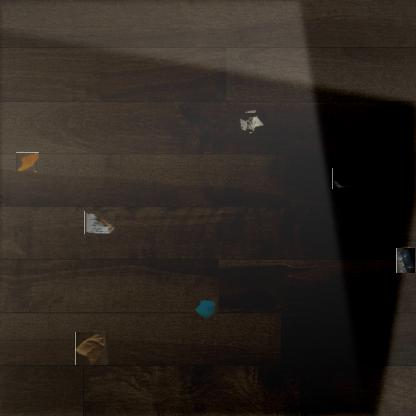dirty: (75, 332, 107, 365), (84, 210, 115, 234), (240, 110, 264, 134), (194, 298, 217, 320), (396, 247, 415, 273)
liquid: (332, 167, 363, 189), (17, 151, 38, 173)
